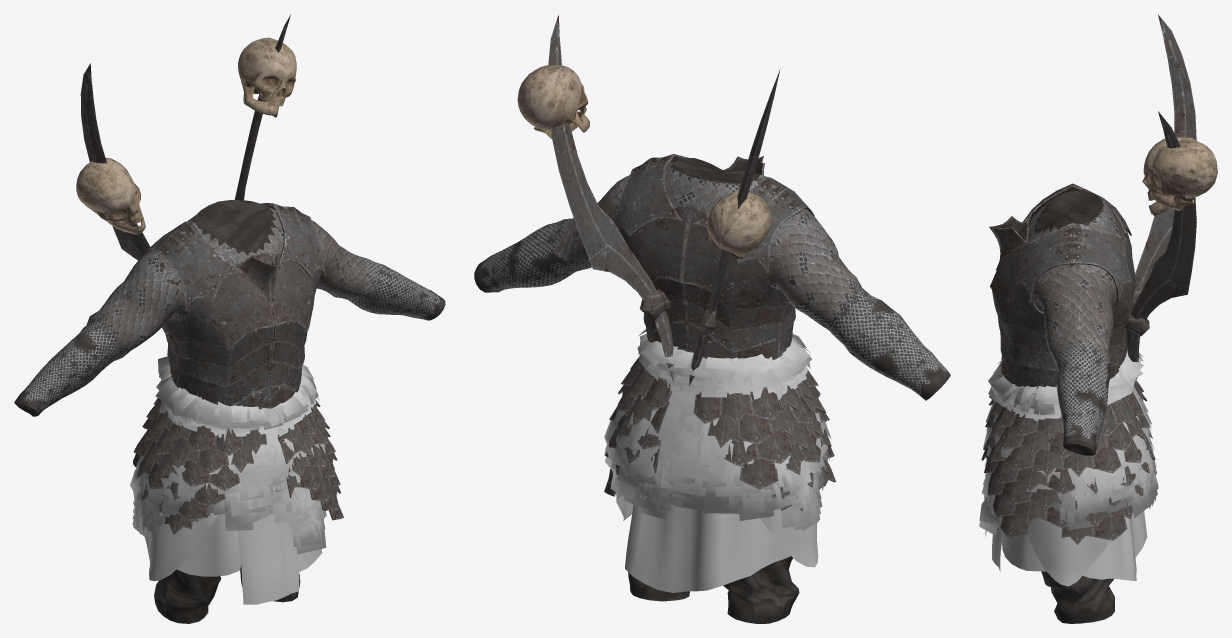
Rendered from sk_gb_uruk_chest_lord_e.fbx.
3 views of the same model, side by side, from view 1: azimuth 30°, elevation 25°; view 2: azimuth 150°, elevation 25°; view 3: azimuth 270°, elevation 25° (orthographic). The views are drawn at different scales.
Visible parts, largest first — view 1: sk_gb_uruk_chest_lord_e.base.2, sk_gb_uruk_chest_lord_e.base.0, sk_gb_uruk_chest_lord_e.skirt.2, sk_gb_uruk_chest_lord_e.skirt.3, sk_gb_uruk_chest_lord_e.base.1, sk_gb_uruk_chest_lord_e.skirt.1; view 2: sk_gb_uruk_chest_lord_e.base.0, sk_gb_uruk_chest_lord_e.skirt.2, sk_gb_uruk_chest_lord_e.base.2, sk_gb_uruk_chest_lord_e.base.1, sk_gb_uruk_chest_lord_e.skirt.3, sk_gb_uruk_chest_lord_e.skirt.1; view 3: sk_gb_uruk_chest_lord_e.base.0, sk_gb_uruk_chest_lord_e.skirt.3, sk_gb_uruk_chest_lord_e.base.2, sk_gb_uruk_chest_lord_e.base.1, sk_gb_uruk_chest_lord_e.skirt.2, sk_gb_uruk_chest_lord_e.skirt.1.
Boxes of the visible parts, x1,y1,x2,y2 form: sk_gb_uruk_chest_lord_e.base.2: (144, 203, 326, 409); sk_gb_uruk_chest_lord_e.base.0: (14, 200, 445, 623); sk_gb_uruk_chest_lord_e.skirt.2: (130, 356, 326, 554); sk_gb_uruk_chest_lord_e.skirt.3: (133, 398, 343, 534); sk_gb_uruk_chest_lord_e.base.1: (76, 14, 296, 260); sk_gb_uruk_chest_lord_e.skirt.1: (145, 513, 324, 604); sk_gb_uruk_chest_lord_e.base.0: (474, 158, 950, 623); sk_gb_uruk_chest_lord_e.skirt.2: (604, 329, 831, 531); sk_gb_uruk_chest_lord_e.base.2: (614, 154, 814, 359); sk_gb_uruk_chest_lord_e.base.1: (517, 15, 780, 385); sk_gb_uruk_chest_lord_e.skirt.3: (604, 356, 835, 511); sk_gb_uruk_chest_lord_e.skirt.1: (616, 492, 818, 592); sk_gb_uruk_chest_lord_e.base.0: (1028, 191, 1117, 623); sk_gb_uruk_chest_lord_e.skirt.3: (981, 380, 1155, 544); sk_gb_uruk_chest_lord_e.base.2: (989, 183, 1137, 388); sk_gb_uruk_chest_lord_e.base.1: (1124, 14, 1217, 379); sk_gb_uruk_chest_lord_e.skirt.2: (979, 351, 1158, 536); sk_gb_uruk_chest_lord_e.skirt.1: (992, 511, 1147, 586).
Size of the model in its own units: 1.35 by 0.6638 by 1.63.
